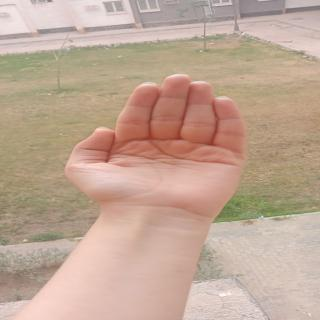SEEN: (74, 66, 254, 212)
